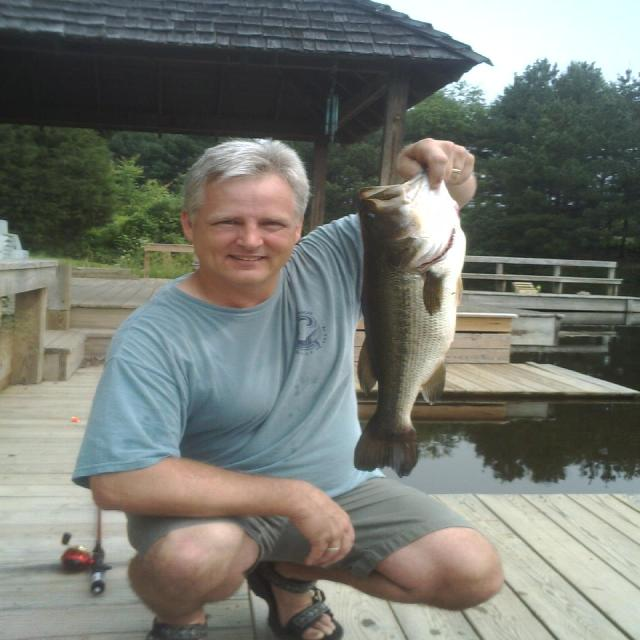Bass - Largemouth: (355, 172, 465, 476)
